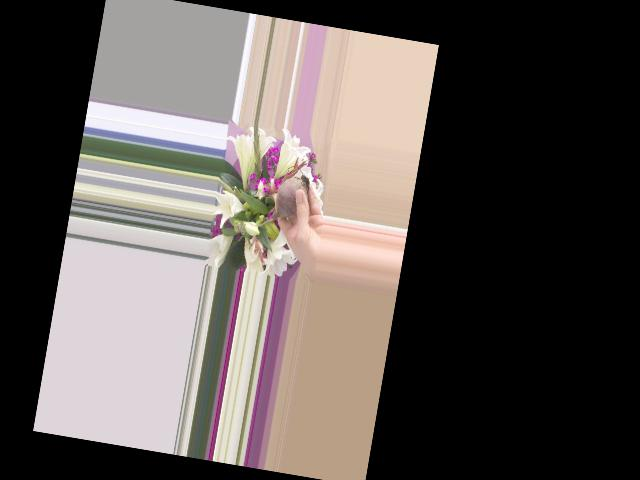beet: (249, 159, 313, 234)
